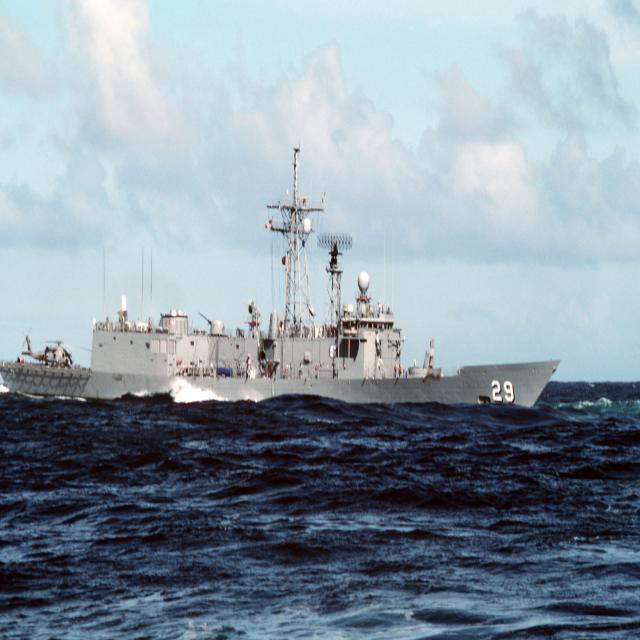navalvessels: (7, 142, 558, 419)
